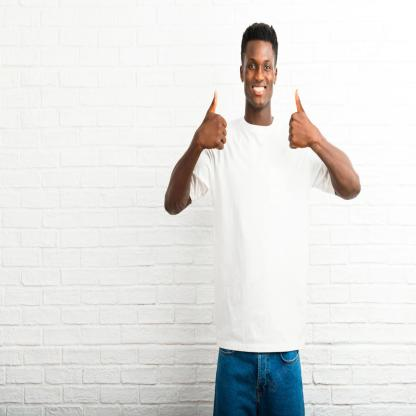Thumbs-Up: (188, 90, 230, 158), (282, 82, 319, 156)
